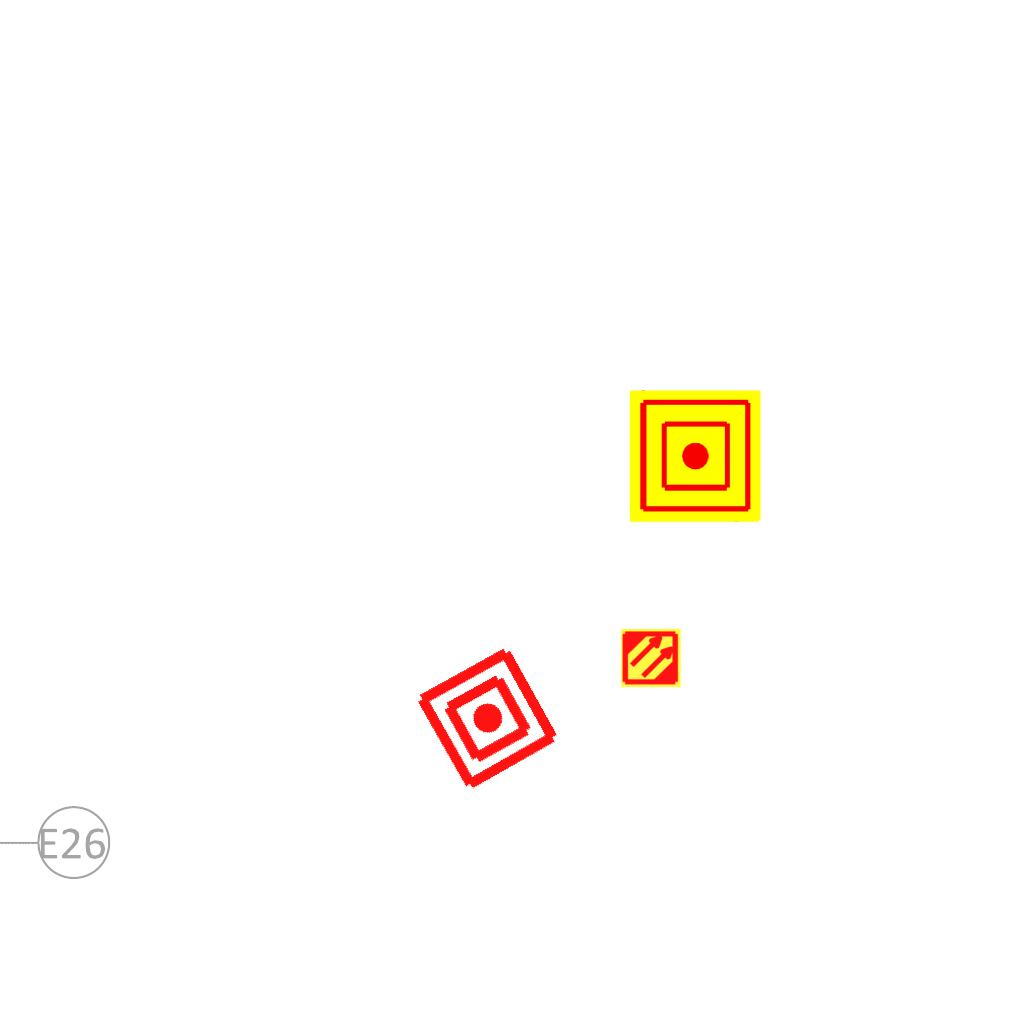ASR_Ansaugrauchmelder: (620, 627, 682, 689)
NAM-Nichtautomatischer_Melder: (410, 641, 565, 796), (629, 390, 761, 522)
